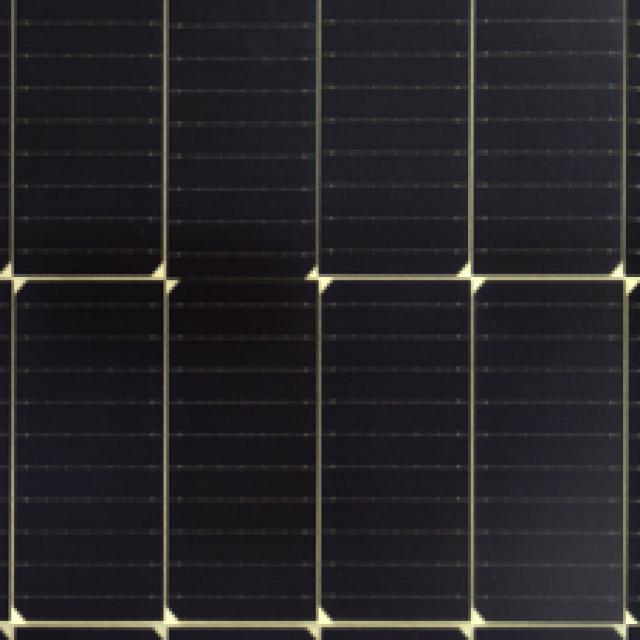CELL SHORT: (168, 265, 315, 299)
